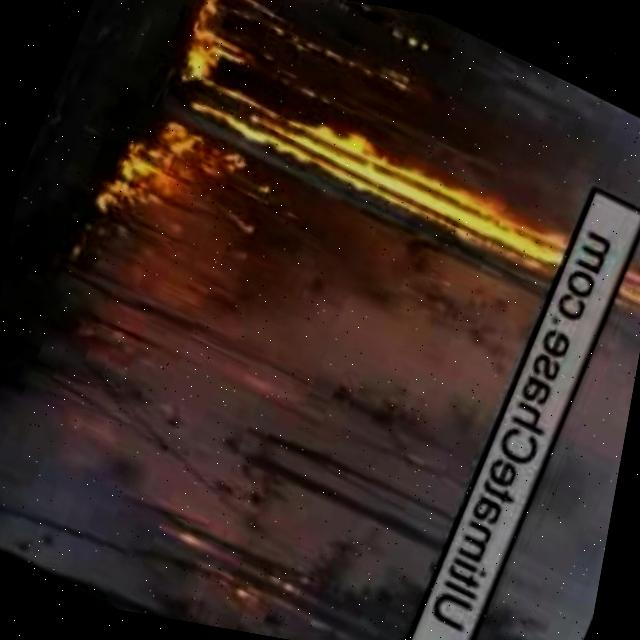fire: (135, 86, 640, 316), (99, 97, 251, 251), (174, 0, 256, 92)
